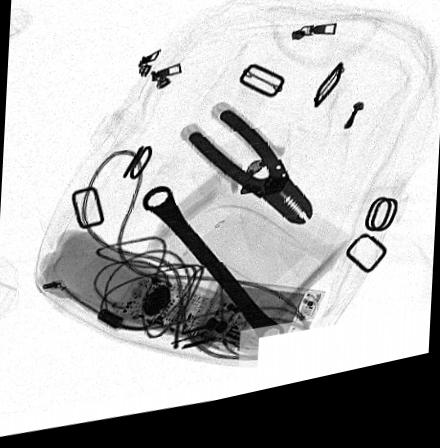Pliers: (187, 119, 314, 240)
Powerbank: (184, 283, 323, 375)
Wrench: (142, 193, 286, 362)
